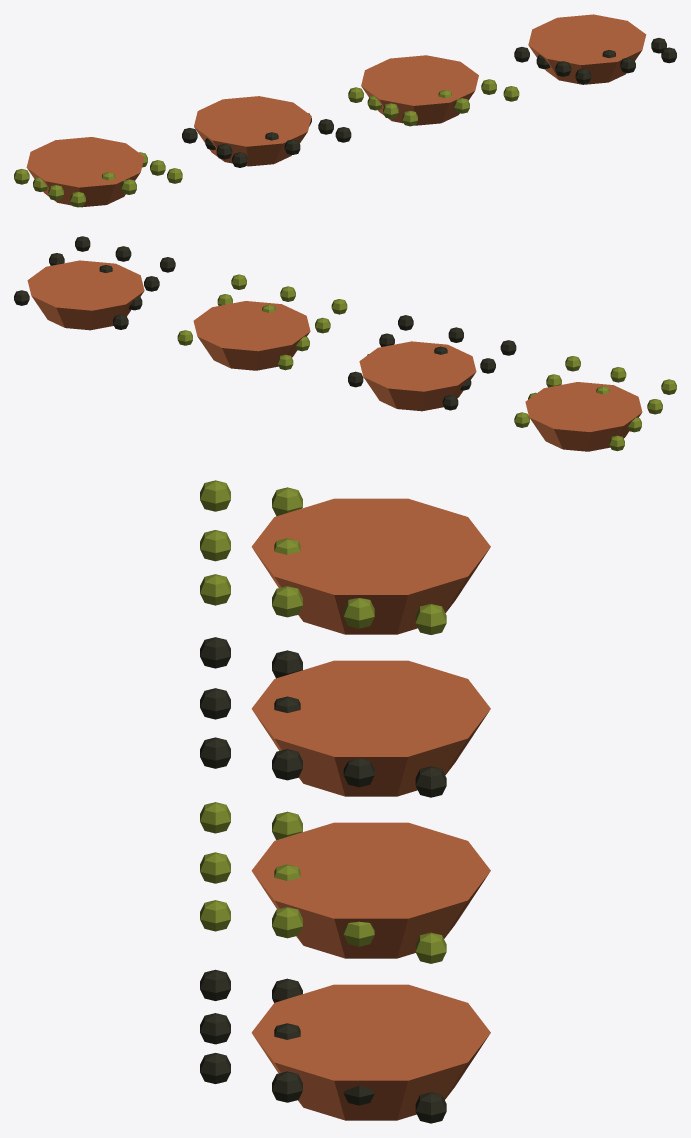
Rendered from market_food_olives.glb.
3 renders of one model, top to bottom at view 1: azimuth 30°, elevation 25°; view 2: azimuth 150°, elevation 25°; view 3: azimuth 270°, elevation 25°, orthographic. The views are drawn at different scales.
Visible parts, largest first — view 1: goods_bowl_clay (×4), goods_olive_green (×2), goods_olive_black (×2); view 2: goods_bowl_clay (×4), goods_olive_green (×2), goods_olive_black (×2); view 3: goods_bowl_clay (×4), goods_olive_green (×2), goods_olive_black (×2).
Part boxes in pixels (x1,y1,x2,y2): goods_bowl_clay (×4): [26, 14, 646, 207]; goods_olive_green (×2): [14, 79, 519, 207]; goods_olive_black (×2): [182, 38, 676, 167]; goods_bowl_clay (×4): [27, 260, 642, 451]; goods_olive_green (×2): [177, 274, 676, 451]; goods_olive_black (×2): [14, 236, 516, 410]; goods_bowl_clay (×4): [251, 498, 490, 1120]; goods_olive_green (×2): [200, 480, 446, 963]; goods_olive_black (×2): [200, 637, 446, 1123].
Size of the model in its own units: 2.37 by 0.137 by 0.486.
